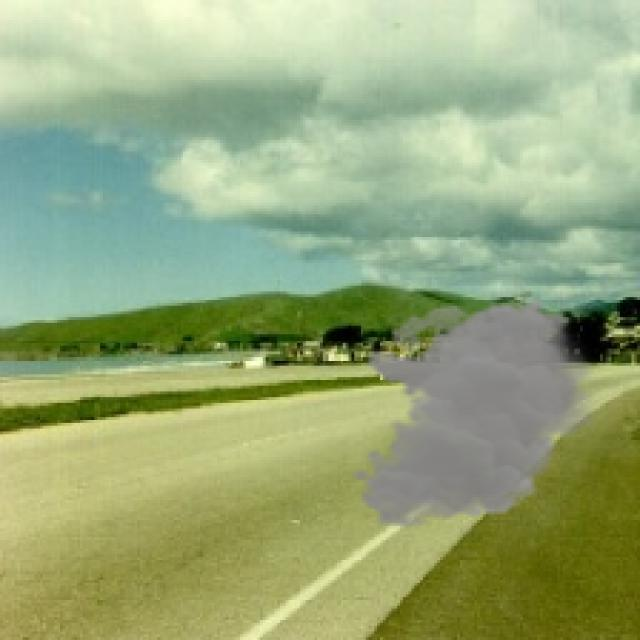smoke: (351, 297, 606, 529)
